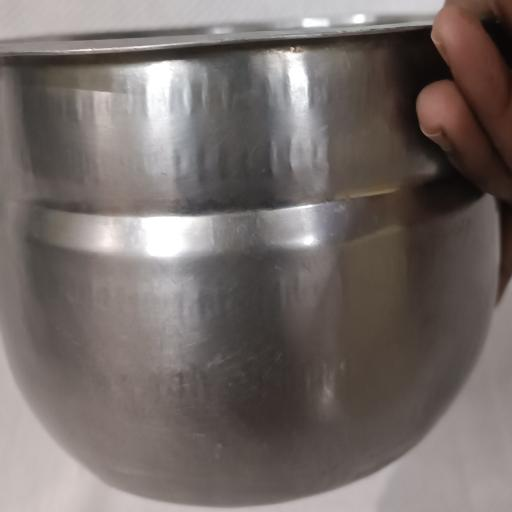vessel: (0, 22, 500, 506)
